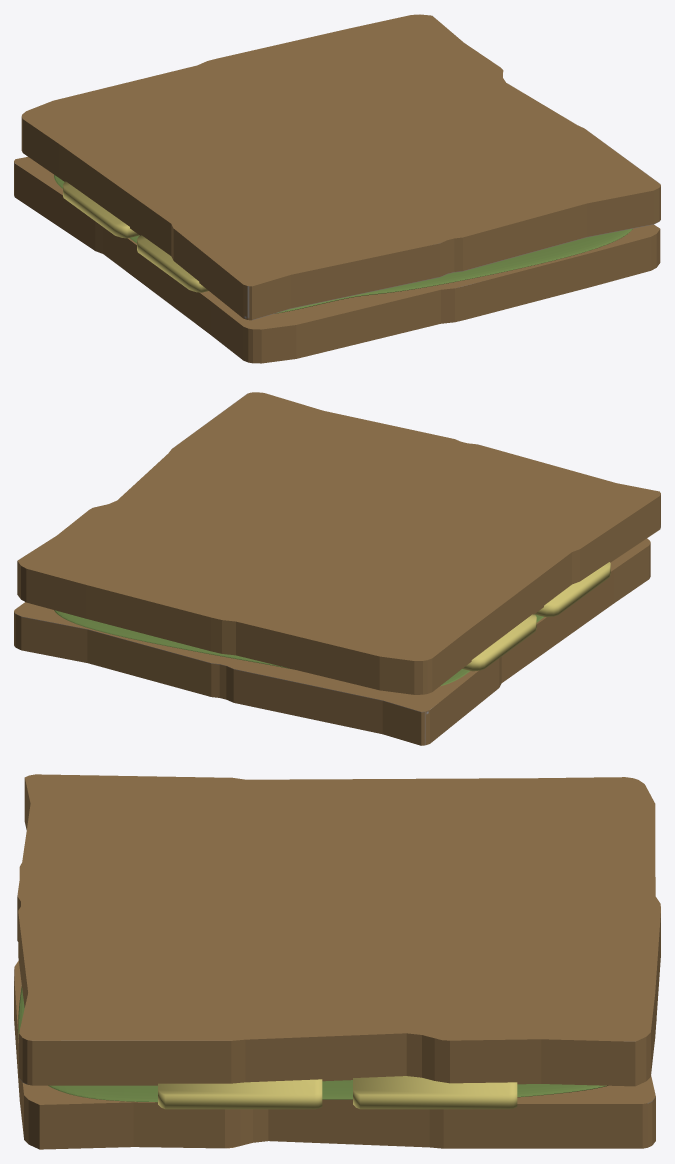
File: completewholewheat.fbx
3 views of the same model, one above another, from view 1: azimuth 30°, elevation 25°; view 2: azimuth 150°, elevation 25°; view 3: azimuth 270°, elevation 25° (orthographic). The views are drawn at different scales.
Parts seen in each view (by area): view 1: top bread, bottom bread, kaya, BUTTER.001, BUTTER; view 2: top bread, bottom bread, kaya, BUTTER.001, BUTTER; view 3: top bread, bottom bread, BUTTER.001, BUTTER, kaya.
Boxes of the visible parts, box(x1,y1,x2,y2) form: top bread: box(21, 14, 660, 320); bottom bread: box(14, 157, 660, 363); kaya: box(54, 174, 632, 313); BUTTER.001: box(63, 181, 139, 238); BUTTER: box(137, 235, 208, 292); top bread: box(17, 392, 660, 694); bottom bread: box(14, 538, 650, 745); kaya: box(54, 610, 543, 686); BUTTER.001: box(462, 614, 536, 671); BUTTER: box(535, 562, 610, 617); top bread: box(17, 774, 660, 1086); bottom bread: box(14, 863, 656, 1149); BUTTER.001: box(353, 1076, 517, 1109); BUTTER: box(158, 1079, 322, 1109); kaya: box(18, 986, 607, 1102).
Size of the model in its own units: 207 by 36.98 by 203.
Materials: 4 (1 with a texture image).
